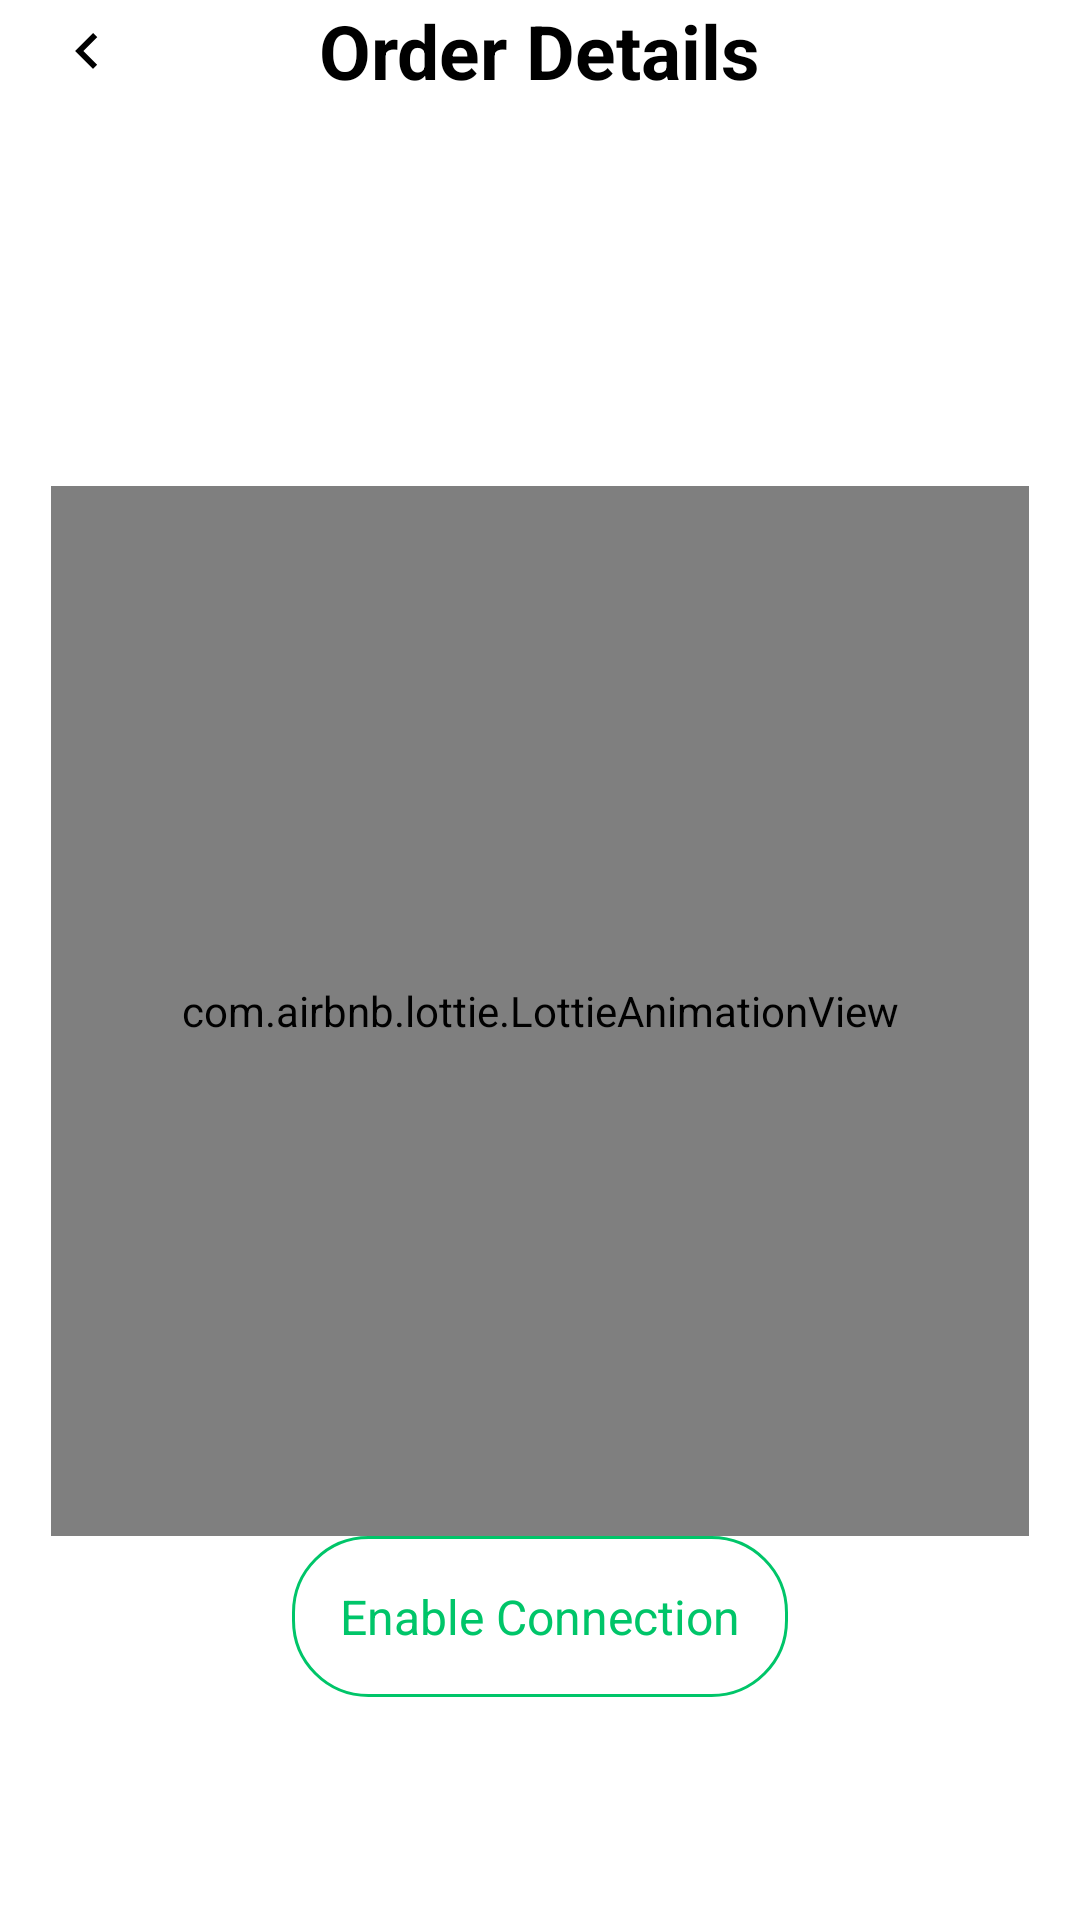

Icon bounding boxes for this 1080x1920 phone screenshot, format (x1, y1, x2, y2):
Go back: (75, 33, 97, 69)
